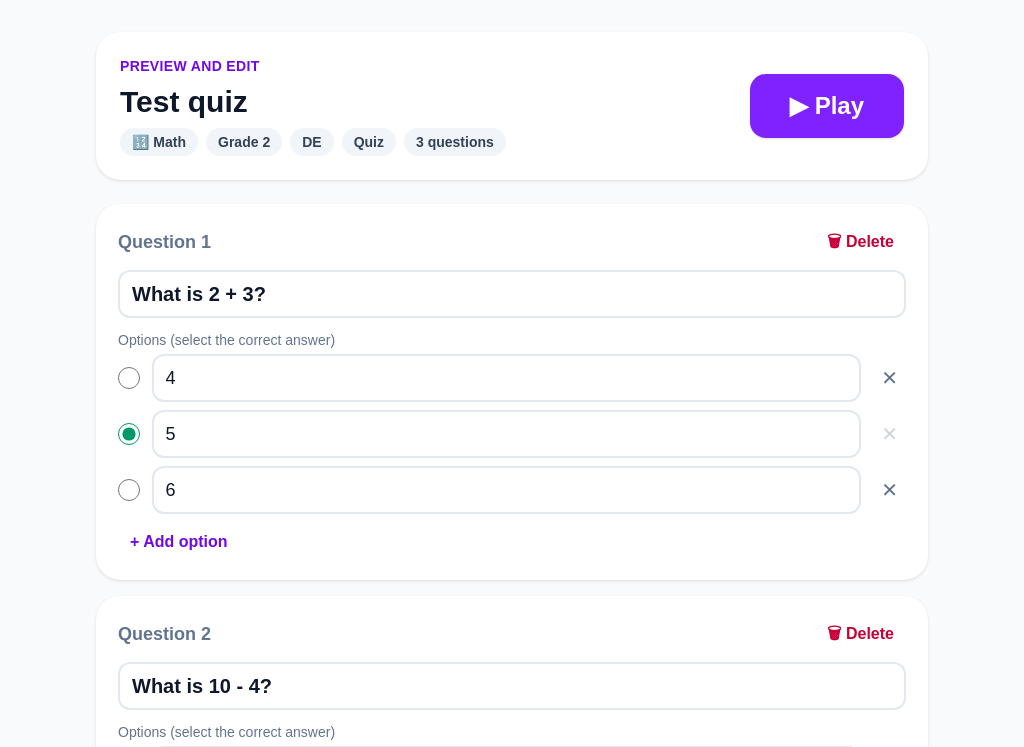
Test case: GameFlow › shows team setup in the game's language and marks the page language
The image size is (1024, 747).
What coordinates should you click on to do the following:
click the button "▶ Play"
I would click on:
 (827, 106)
Its box is [750,74,904,138].
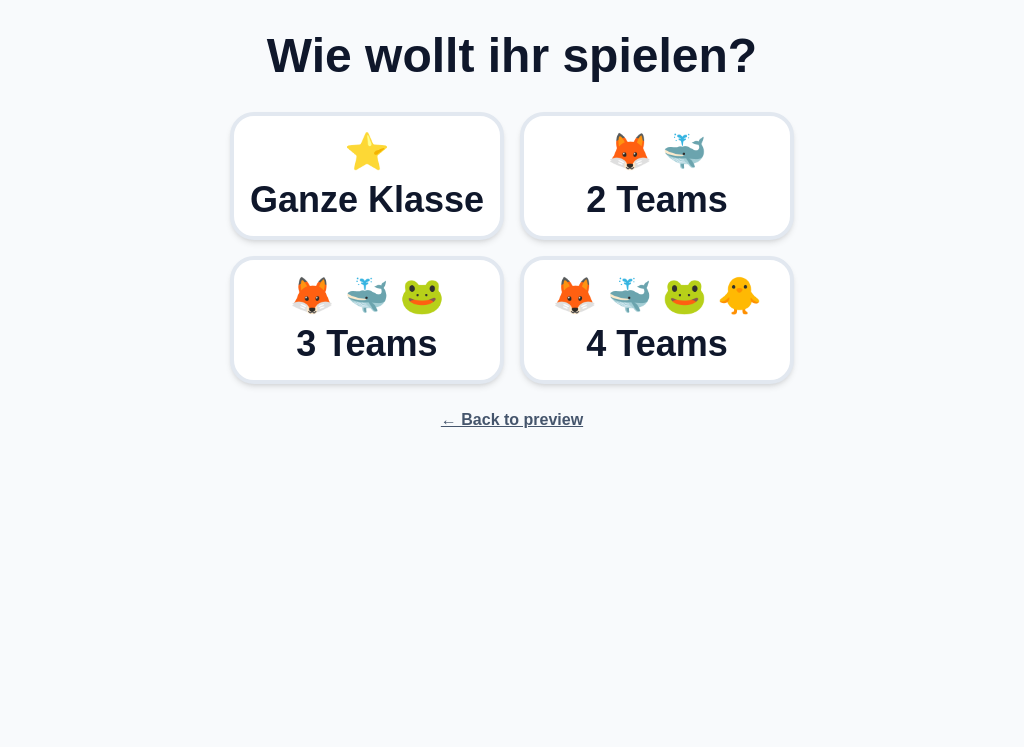
expect the heading "Wie wollt ihr spielen?" is shown: met, box [267,32,757,80]
